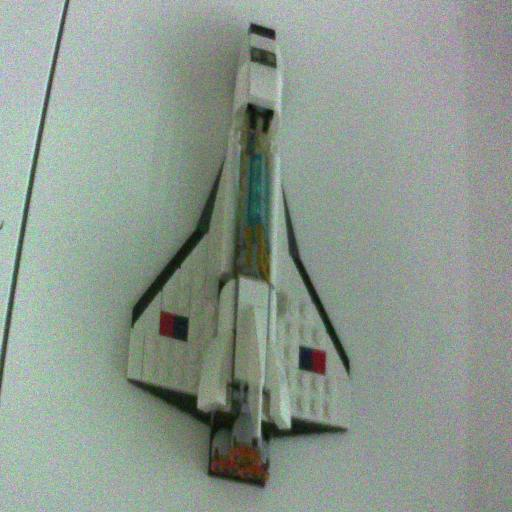defect_missingpiece: (230, 90, 280, 302)
